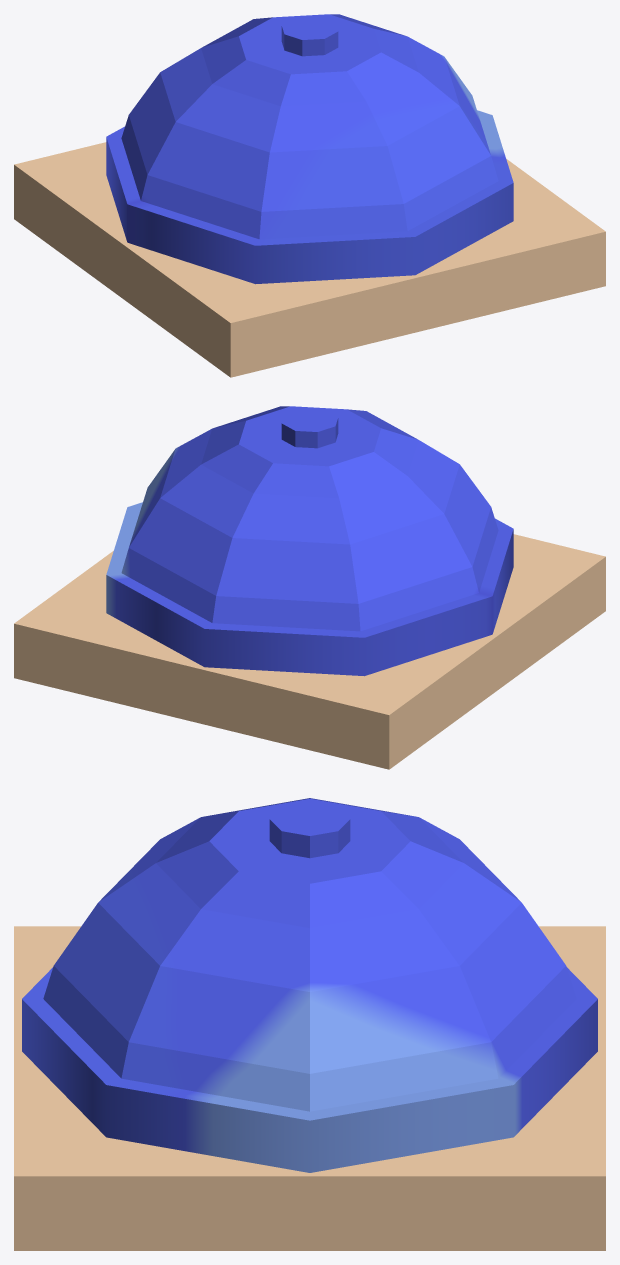
Rendered from Bell.fbx.
3 views of the same model, one above another, from view 1: azimuth 30°, elevation 25°; view 2: azimuth 150°, elevation 25°; view 3: azimuth 270°, elevation 25° (orthographic). The views are drawn at different scales.
Parts seen in each view (by area): view 1: Bell; view 2: Bell; view 3: Bell.
Boxes of the visible parts, <box> form: Bell: <box>14,14,605,377</box>; Bell: <box>14,406,605,769</box>; Bell: <box>14,798,605,1250</box>.
Size of the model in its own units: 16.89 by 9.66 by 16.89.
